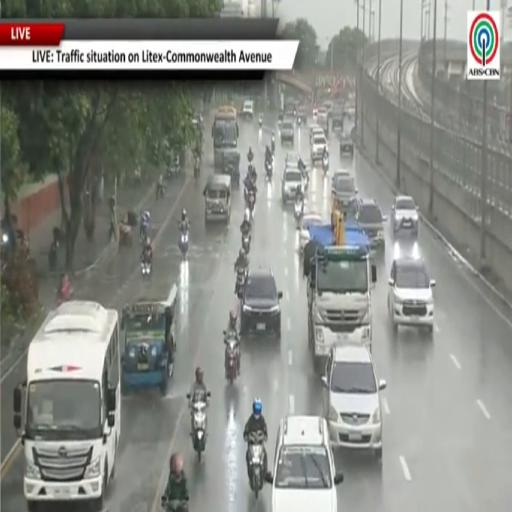bus: (14, 301, 121, 510), (212, 106, 239, 168)
car: (266, 415, 343, 511), (322, 344, 386, 459), (388, 256, 435, 332), (240, 267, 282, 339), (356, 199, 386, 248), (391, 196, 419, 235), (298, 213, 325, 251), (332, 170, 358, 206), (282, 167, 303, 203), (310, 133, 327, 163), (285, 152, 309, 173), (280, 118, 294, 146), (331, 104, 343, 131), (309, 123, 324, 143), (340, 133, 353, 156), (317, 114, 329, 136), (242, 100, 254, 120), (285, 152, 300, 168), (297, 106, 307, 125), (323, 101, 333, 119)
jeepney: (122, 285, 176, 394), (204, 174, 231, 222)
motorcycle: (246, 431, 266, 499), (191, 402, 206, 461), (224, 331, 239, 385), (161, 495, 188, 511), (56, 285, 73, 306), (236, 266, 247, 298), (48, 240, 58, 271), (178, 230, 189, 257), (247, 190, 255, 217), (294, 200, 302, 223), (141, 262, 151, 280), (231, 167, 240, 187), (242, 232, 250, 254), (140, 224, 148, 244), (322, 153, 329, 174), (265, 160, 272, 181), (156, 183, 164, 199), (194, 158, 200, 179), (271, 136, 275, 155), (248, 154, 253, 165), (259, 117, 263, 129), (298, 118, 301, 126)
truck: (307, 217, 377, 367), (212, 105, 240, 172), (331, 103, 343, 132)
